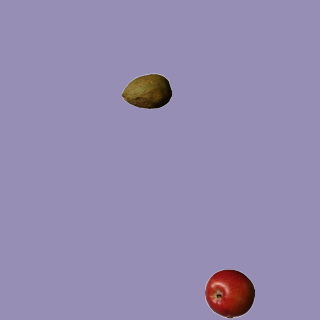Apple Braeburn: (204, 268, 254, 318)
Papaya: (121, 66, 171, 116)
